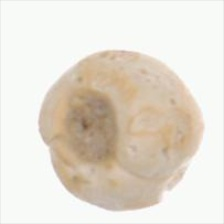L4: (37, 49, 205, 211)
